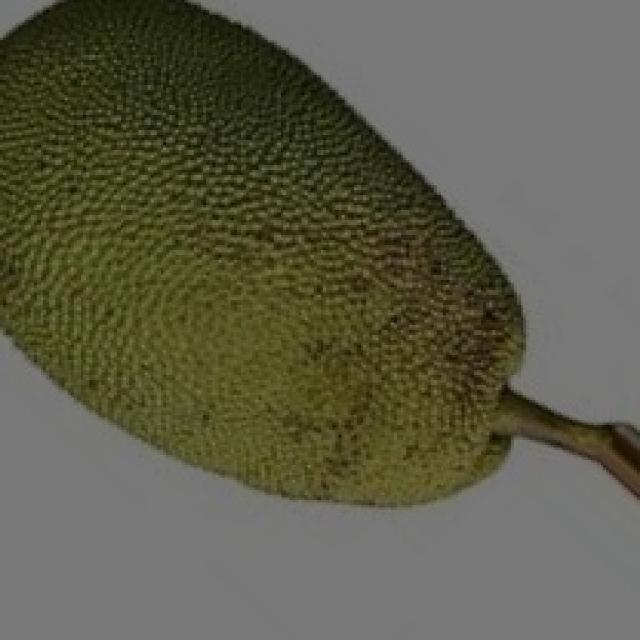Fruit: (0, 0, 406, 388), (224, 110, 554, 535)
